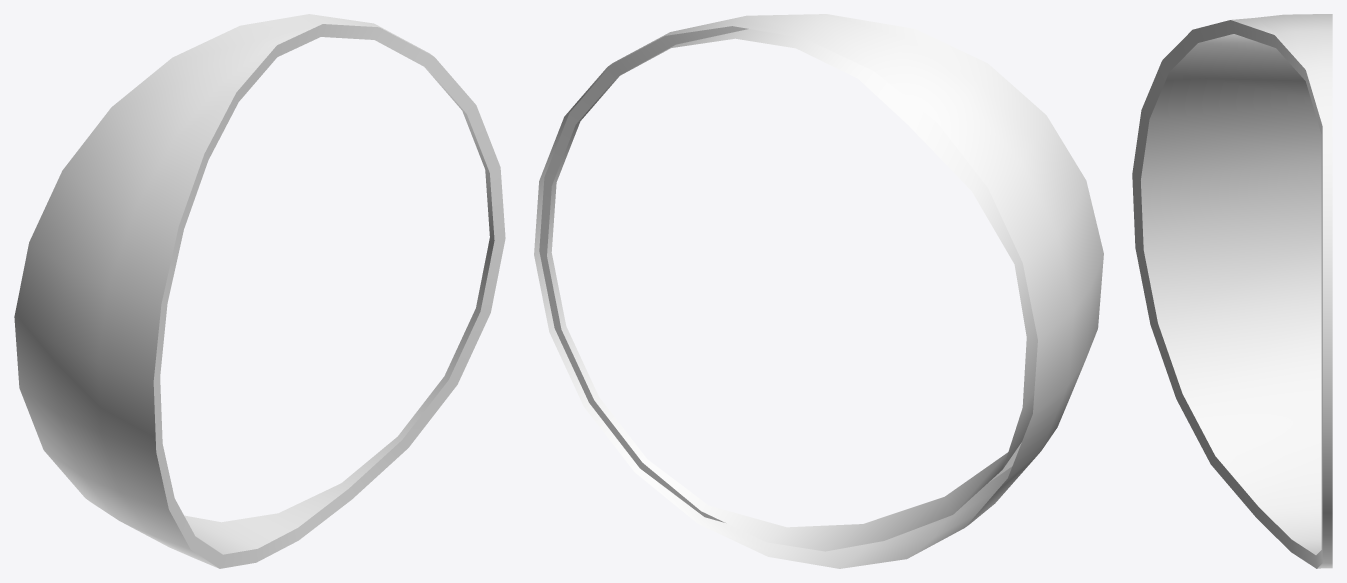
File: RShoulderPitch.glb
The picture shows the model from 3 angles, left to right: view 1: azimuth 30°, elevation 25°; view 2: azimuth 150°, elevation 25°; view 3: azimuth 270°, elevation 25°; orthographic projection. The views are drawn at different scales.
Visible parts, largest first — view 1: RShoulderPitch; view 2: RShoulderPitch; view 3: RShoulderPitch.
Part boxes in pixels (x1=…): RShoulderPitch: x1=14, y1=14, x2=505, y2=568; RShoulderPitch: x1=534, y1=14, x2=1103, y2=568; RShoulderPitch: x1=1132, y1=14, x2=1332, y2=568.
Size of the model in its own units: 0.6598 by 0.6598 by 0.2384.
1 material, 1 textured.
